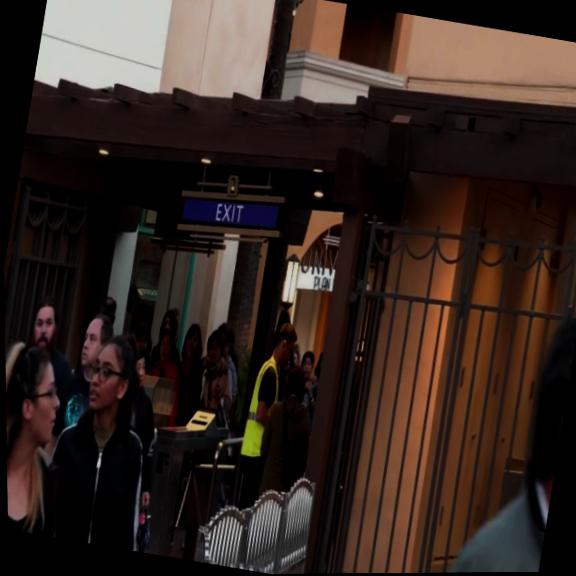safety_vest: (236, 353, 284, 460)
